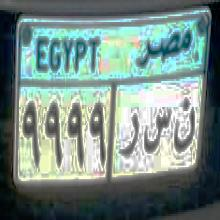9: (43, 100, 64, 174), (21, 98, 40, 175), (67, 97, 84, 177), (89, 99, 108, 170)
noon: (173, 96, 196, 158)
raa: (118, 105, 140, 165)
seen: (142, 99, 172, 167)
